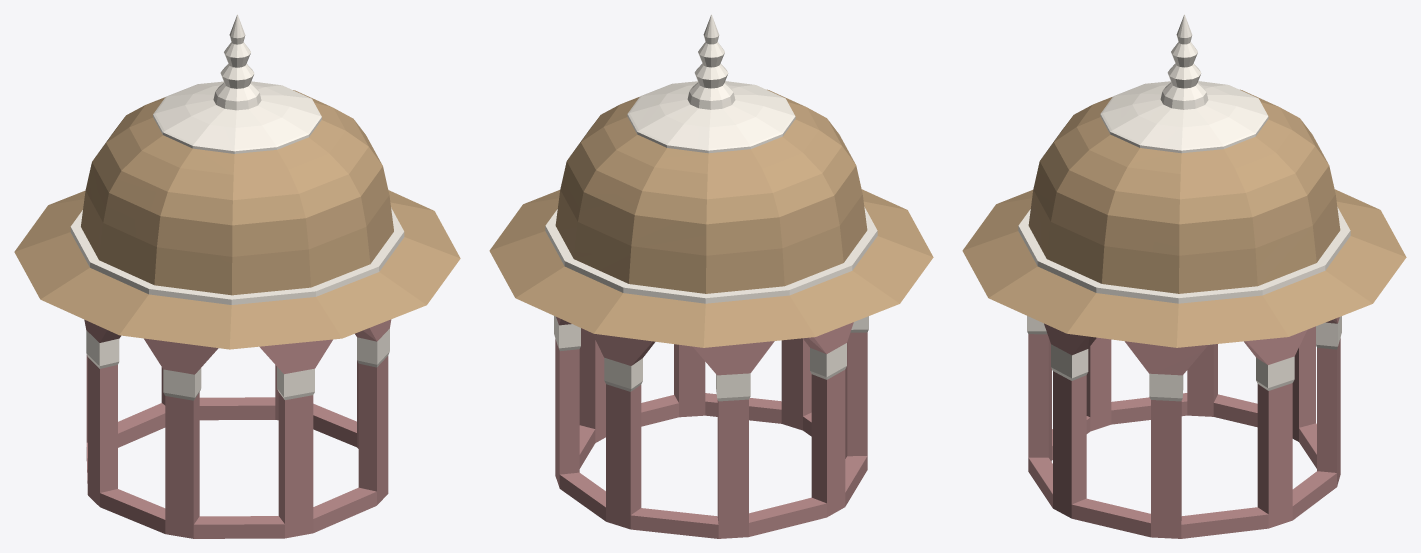
File: Building_Temple_Indian_Top_01.fbx
3 renders of one model, left to right at view 1: azimuth 30°, elevation 25°; view 2: azimuth 150°, elevation 25°; view 3: azimuth 270°, elevation 25°, orthographic.
Visible parts, largest first — view 1: Building_Temple_Indian_Top_01; view 2: Building_Temple_Indian_Top_01; view 3: Building_Temple_Indian_Top_01.
Boxes of the visible parts, x1=… form: Building_Temple_Indian_Top_01: x1=14, y1=14, x2=460, y2=538; Building_Temple_Indian_Top_01: x1=489, y1=14, x2=933, y2=538; Building_Temple_Indian_Top_01: x1=962, y1=14, x2=1406, y2=538.
Size of the model in its own units: 201 by 229 by 201.
